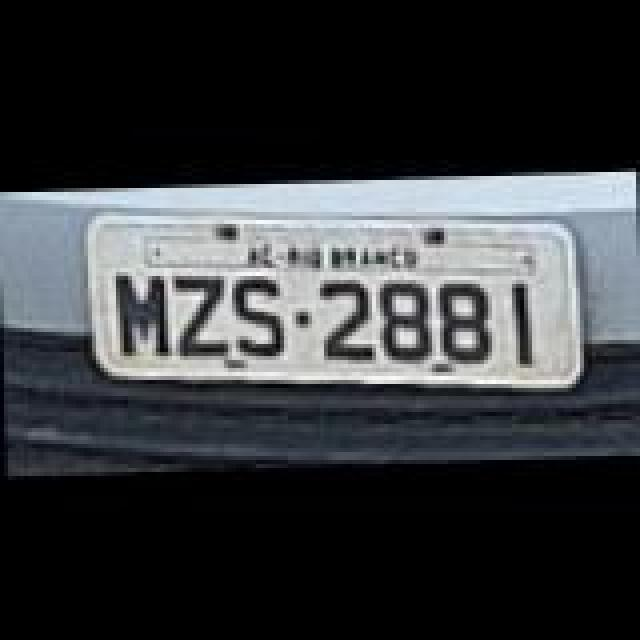1: (508, 278, 540, 362)
2: (320, 276, 376, 356)
8: (434, 278, 494, 358), (380, 276, 436, 356)
M: (114, 268, 174, 352)
S: (228, 274, 284, 354)
Z: (172, 270, 228, 354)
